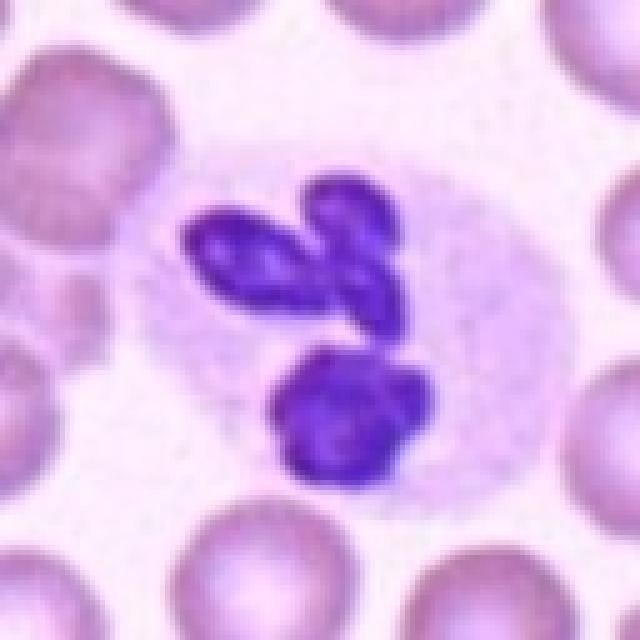neutro: (104, 219, 526, 640)
